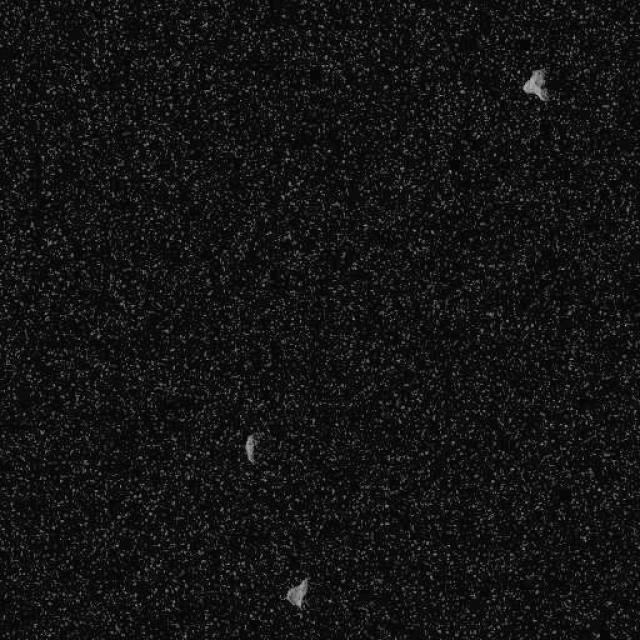D2: (521, 66, 550, 102), (284, 575, 308, 609), (244, 431, 258, 465)
